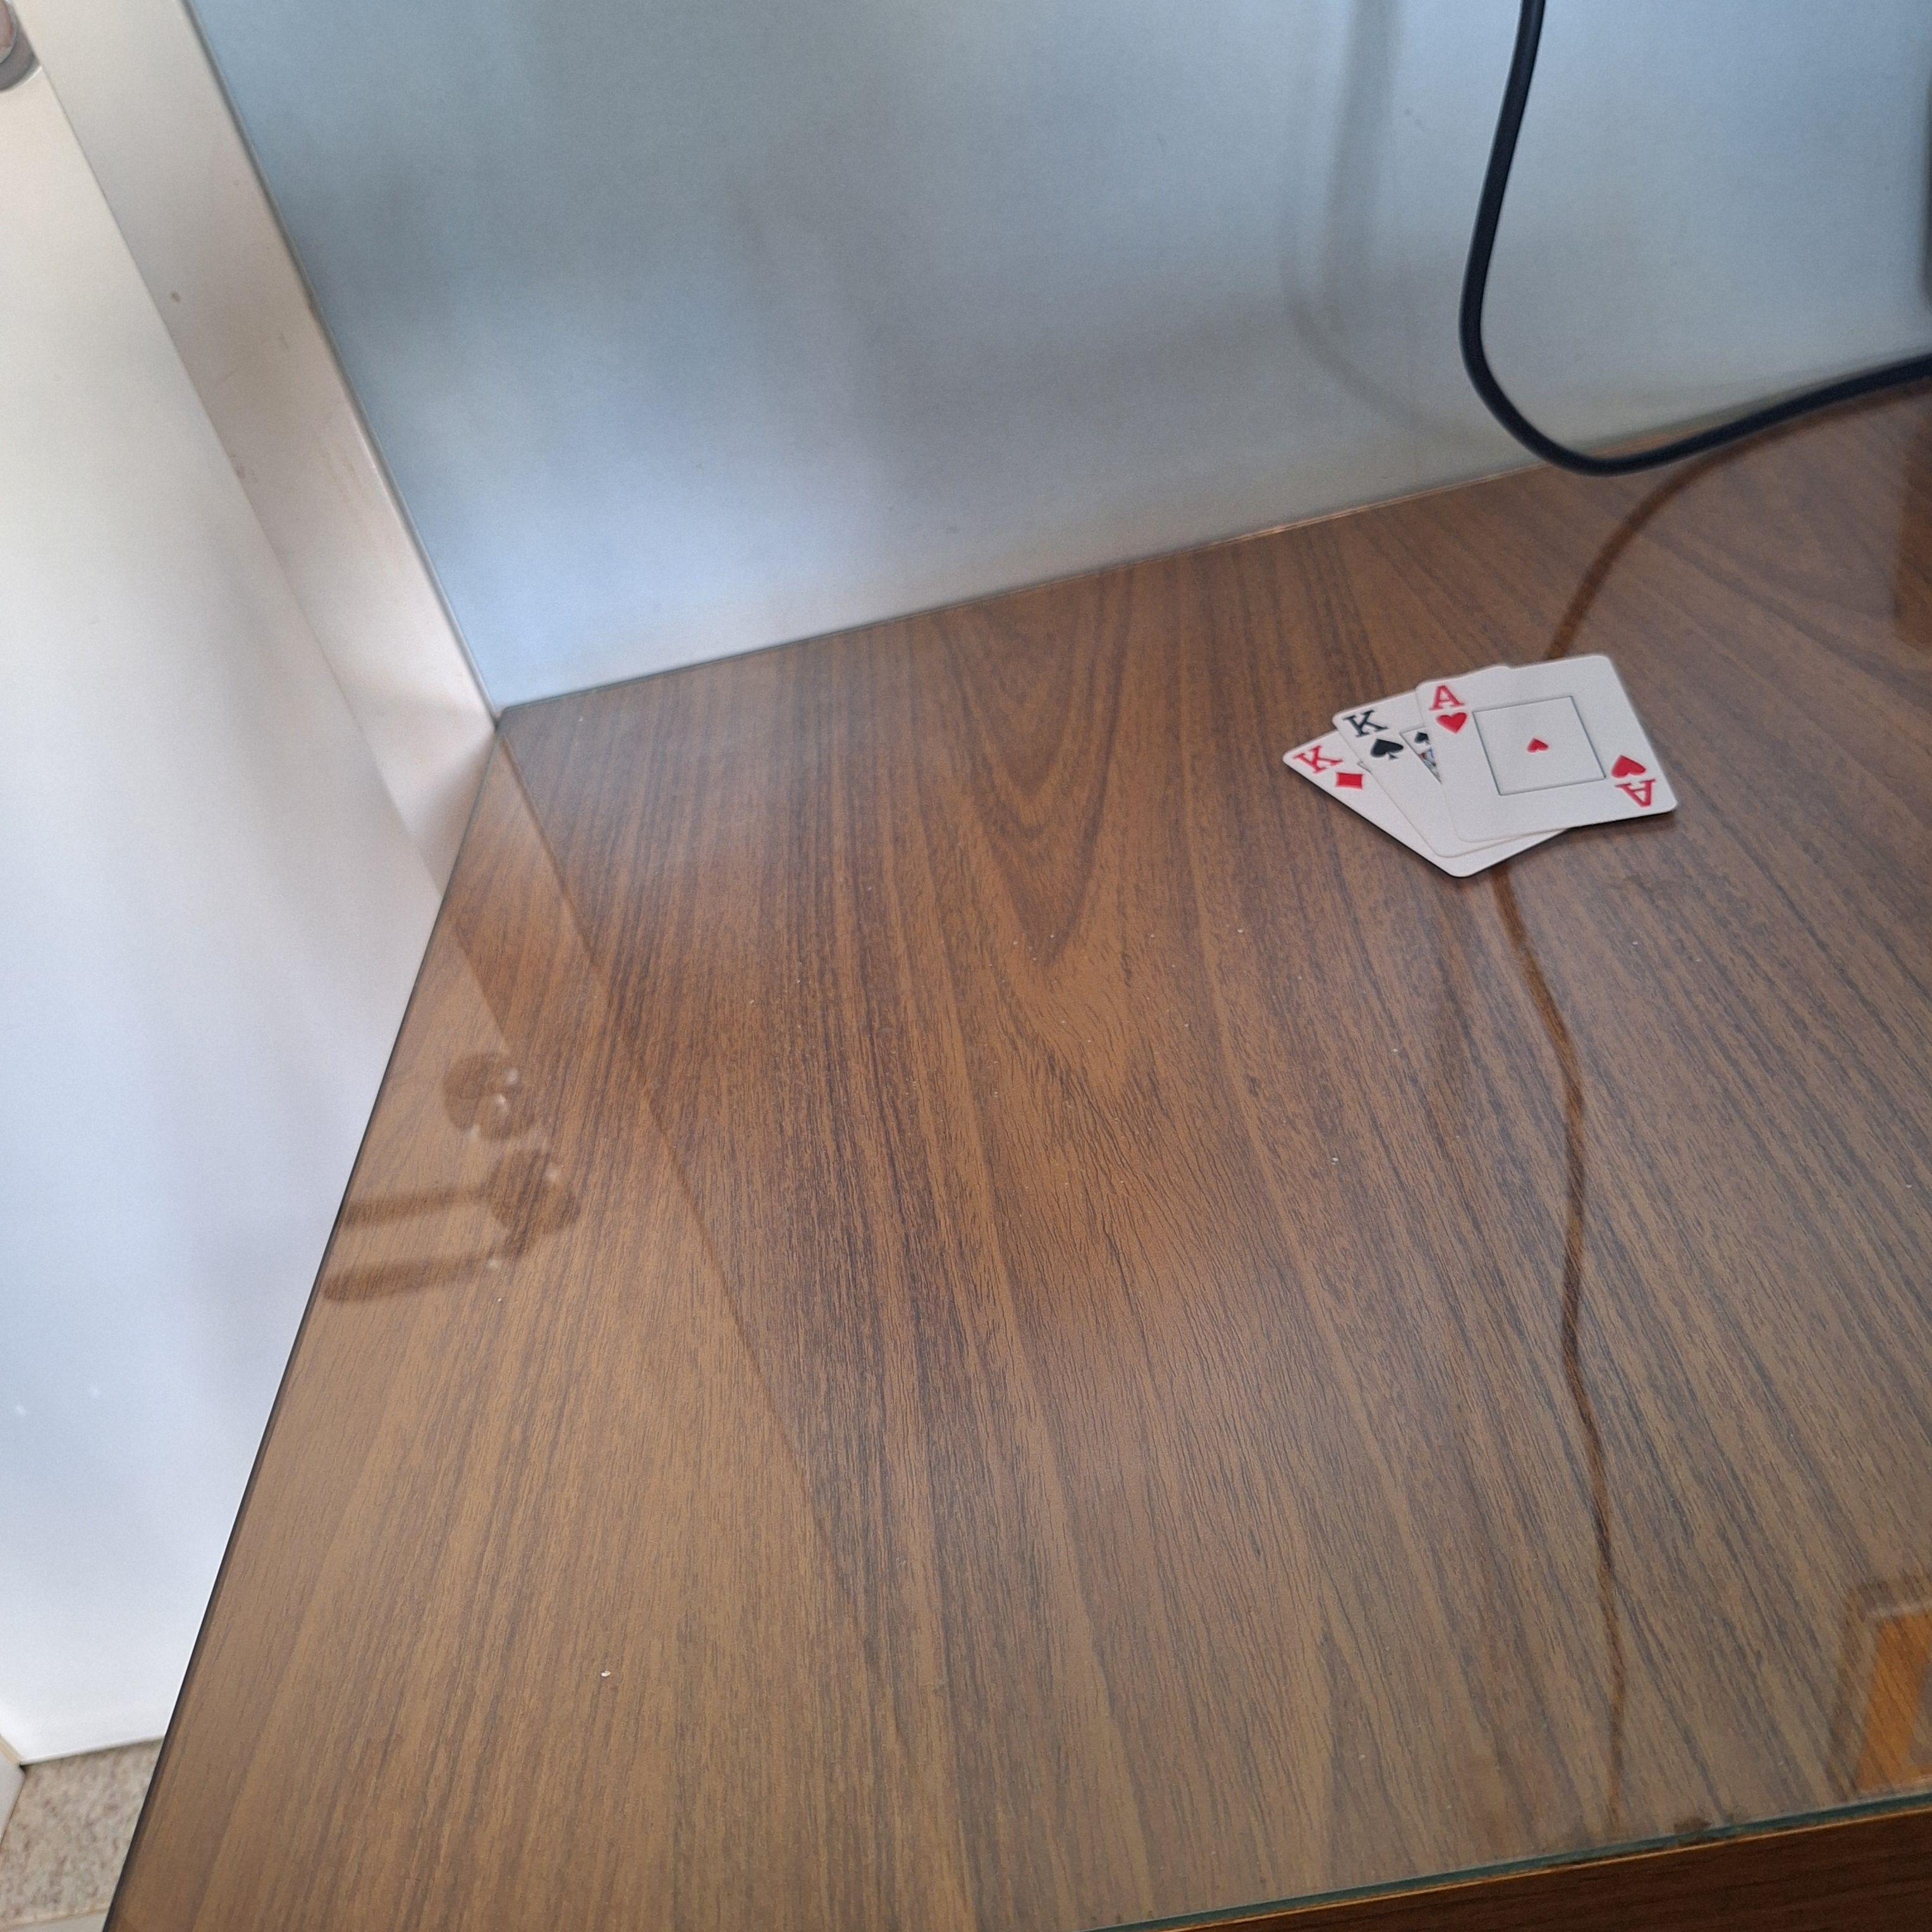AC: (1606, 745, 1667, 816), (1426, 679, 1474, 736)
KE: (1338, 704, 1407, 766)
KO: (1284, 740, 1368, 796)
